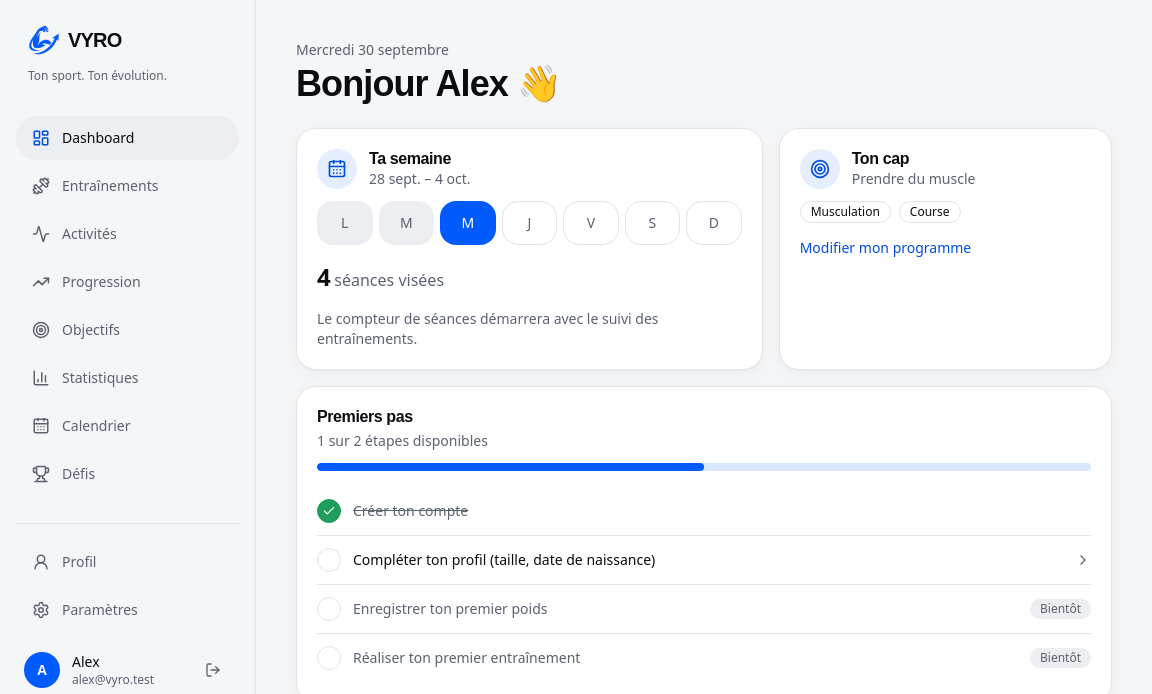
Scenario: App navigation › navigates between pages and marks the active link
Expected: the heading "Bonjour Alex 👋" is shown, [296,63,561,104]
Step 1. Click the link "Paramètres" → click(85, 610), box [32,600,138,619]
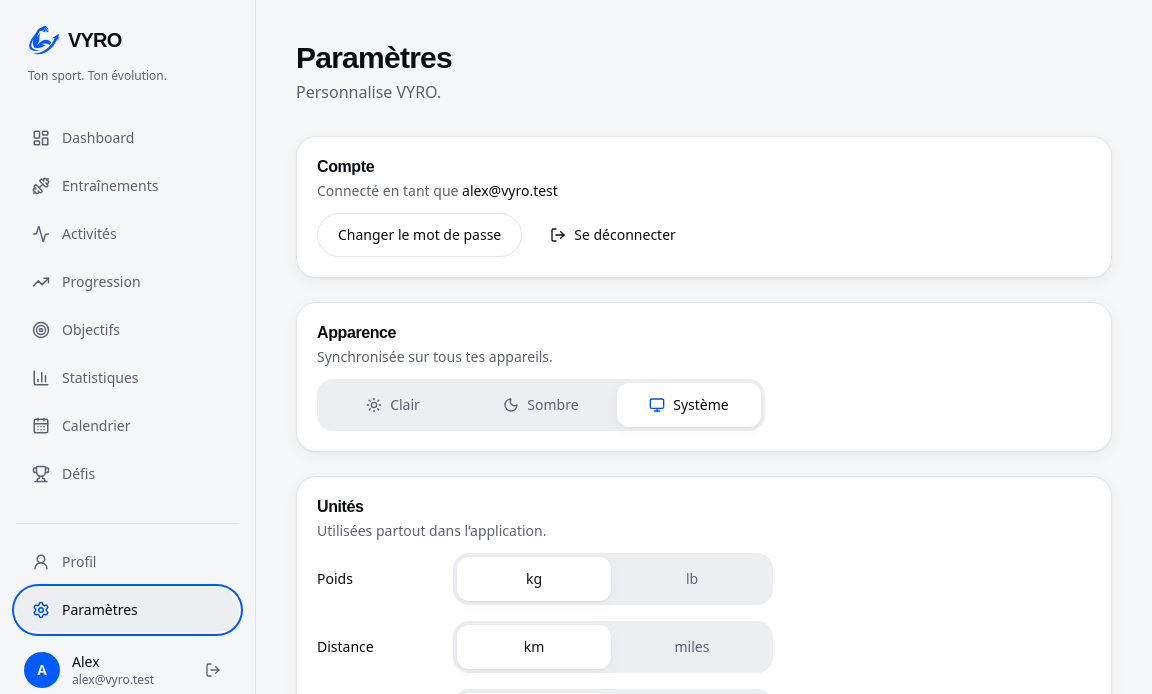
Result: the heading "Paramètres" is shown at [296,40,452,76]
